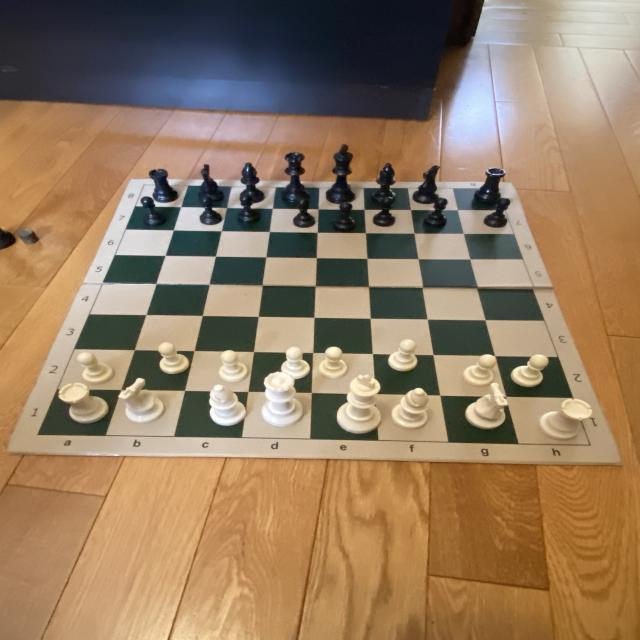chess-table-corners: (31, 428, 47, 442), (584, 441, 598, 452), (492, 184, 504, 194), (137, 182, 150, 188)
